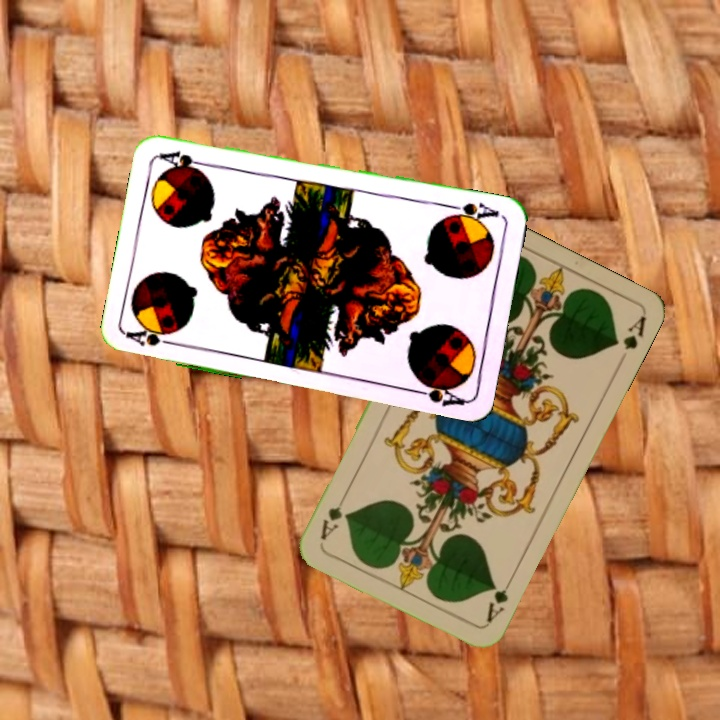GA: (482, 573, 516, 628)
SA: (442, 198, 502, 227), (124, 322, 183, 349)
